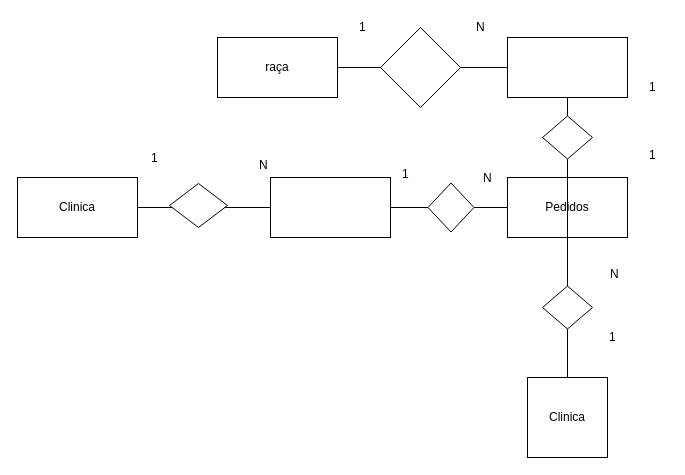
Some shapes in this 685 by 475 pixel diagram are drawn without their labels. The shapes that lost their labels are listed below. From the top down, each one's centre as x and y in pixels, then its label:
At [567,67]: "PETS".
At [330,207]: "Veterinario".
